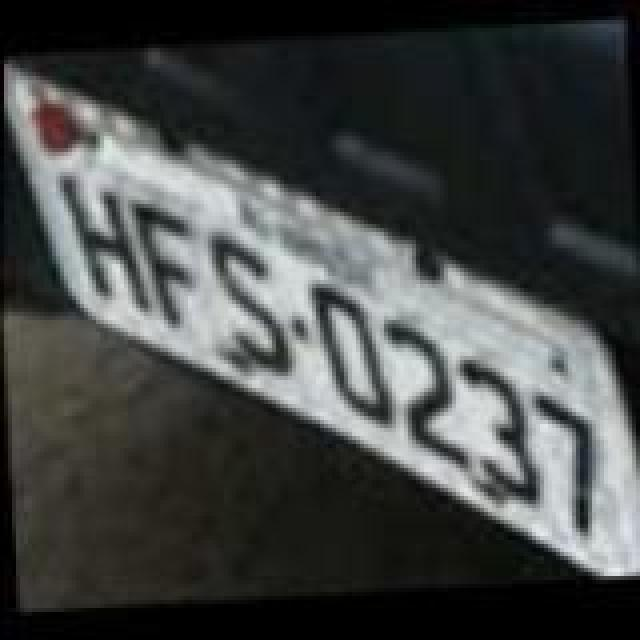2: (380, 312, 484, 472)
3: (456, 358, 544, 510)
7: (524, 384, 612, 544)
F: (128, 200, 204, 340)
H: (56, 176, 160, 328)
O: (304, 280, 412, 436)
S: (200, 236, 300, 380)
